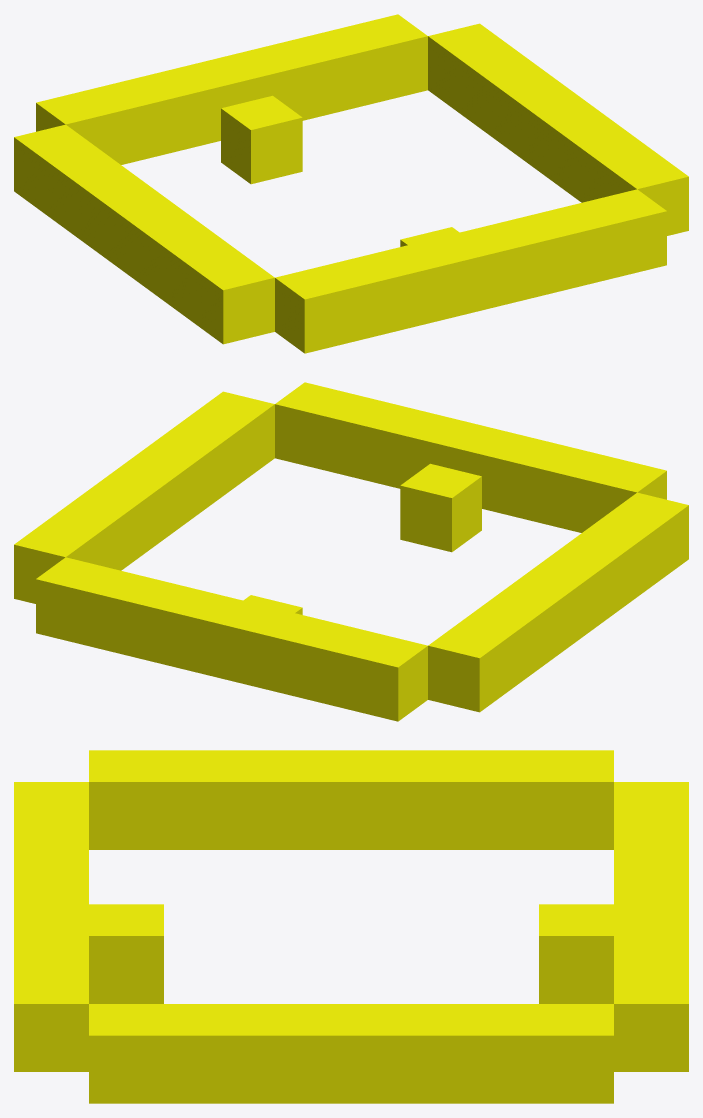
File: YellowBlock_ShipHolder.fbx
The picture shows the model from 3 angles, top to bottom: view 1: azimuth 30°, elevation 25°; view 2: azimuth 150°, elevation 25°; view 3: azimuth 270°, elevation 25°; orthographic projection. The views are drawn at different scales.
Visible parts, largest first — view 1: Cube.052; view 2: Cube.052; view 3: Cube.052.
Boxes of the visible parts, left/top/right/bottom form: Cube.052: left=14, top=14, right=688, bottom=353; Cube.052: left=14, top=382, right=688, bottom=721; Cube.052: left=14, top=750, right=688, bottom=1103.
Bounding box in the file's own units: 9 × 1.4 × 9.
